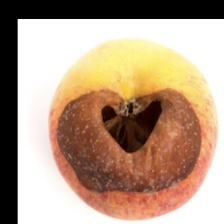apple: (60, 42, 201, 188)
